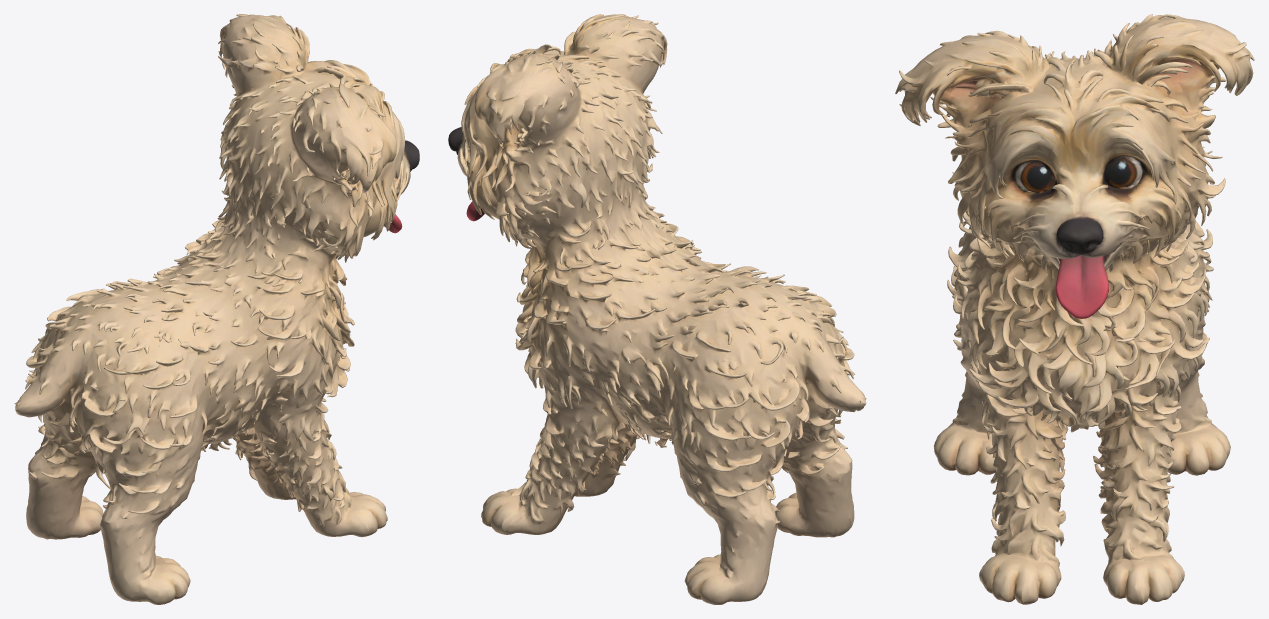
File: Fuffy.glb
The picture shows the model from 3 angles, left to right: view 1: azimuth 30°, elevation 25°; view 2: azimuth 150°, elevation 25°; view 3: azimuth 270°, elevation 25°; orthographic projection. The views are drawn at different scales.
Visible parts, largest first — view 1: tripo_node_8538df81-5283-43c2-a1ba-ee280a6c834e; view 2: tripo_node_8538df81-5283-43c2-a1ba-ee280a6c834e; view 3: tripo_node_8538df81-5283-43c2-a1ba-ee280a6c834e.
Boxes of the visible parts, x1=… form: tripo_node_8538df81-5283-43c2-a1ba-ee280a6c834e: x1=14, y1=14, x2=419, y2=604; tripo_node_8538df81-5283-43c2-a1ba-ee280a6c834e: x1=448, y1=14, x2=866, y2=604; tripo_node_8538df81-5283-43c2-a1ba-ee280a6c834e: x1=895, y1=14, x2=1254, y2=604.
Bounding box in the file's own units: 0.9028 × 1 × 0.5878.
1 material, 1 textured.
